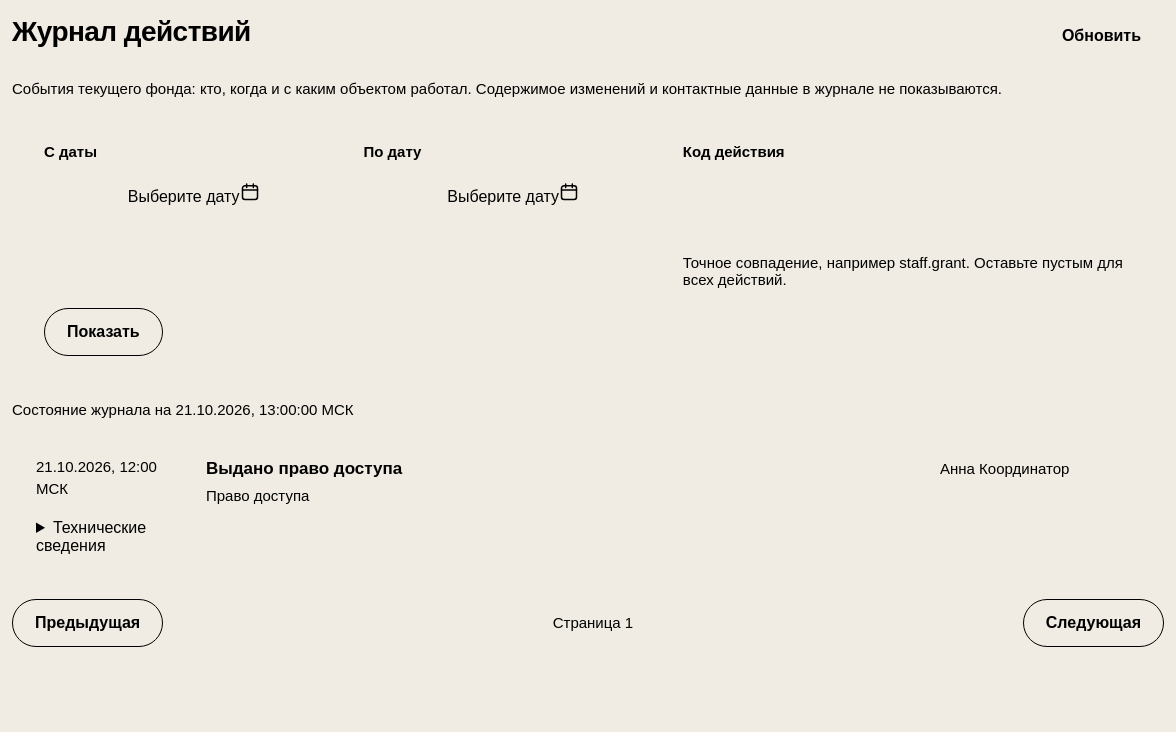
Test: renders safe audit metadata with Russian actions and pages through the exact opaque cursor
Expected: the heading "Выдано право доступа" is shown, [206,458,402,478]
Expected: the text "Анна Координатор" is shown, [940,460,1069,476]
Click the button "Следующая". click: (1093, 623)
box: [1023,599,1164,647]
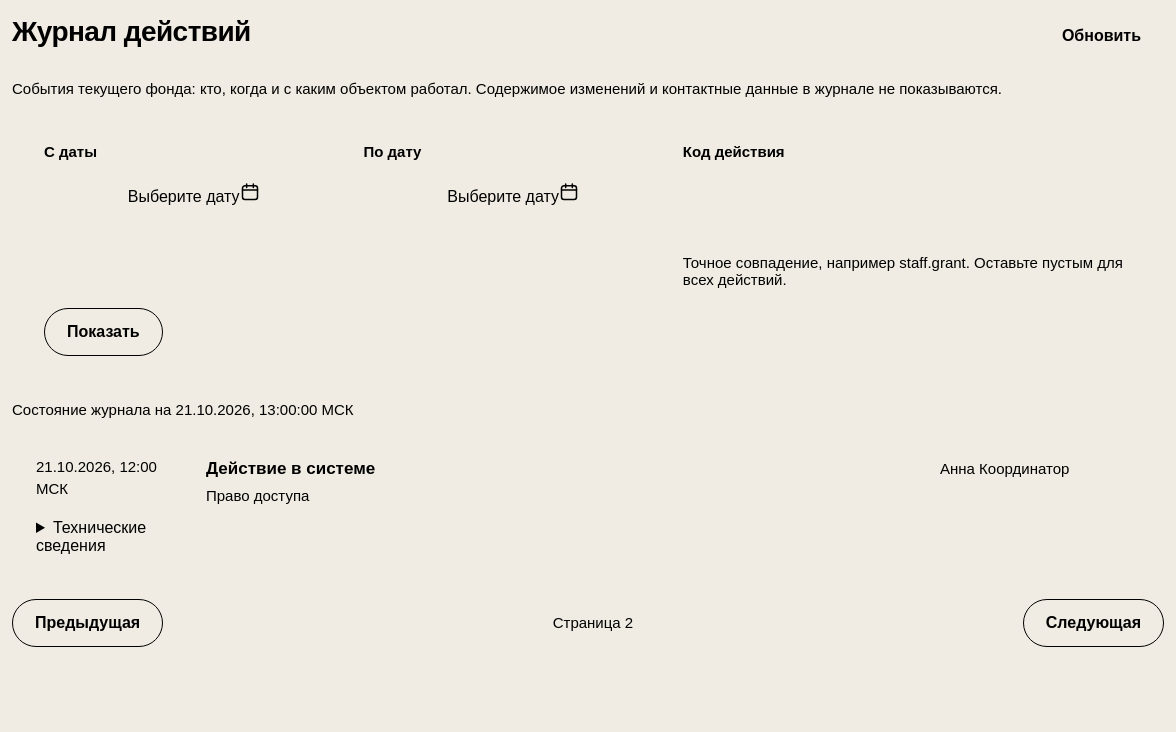
Result: the heading "Действие в системе" is shown at [206,458,375,478]
Result: the text "Страница 2" is shown at [553,612,633,634]
